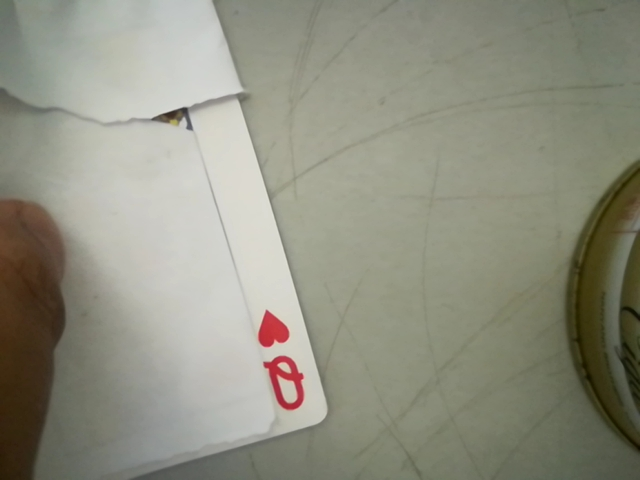hx q: (245, 303, 311, 423)
